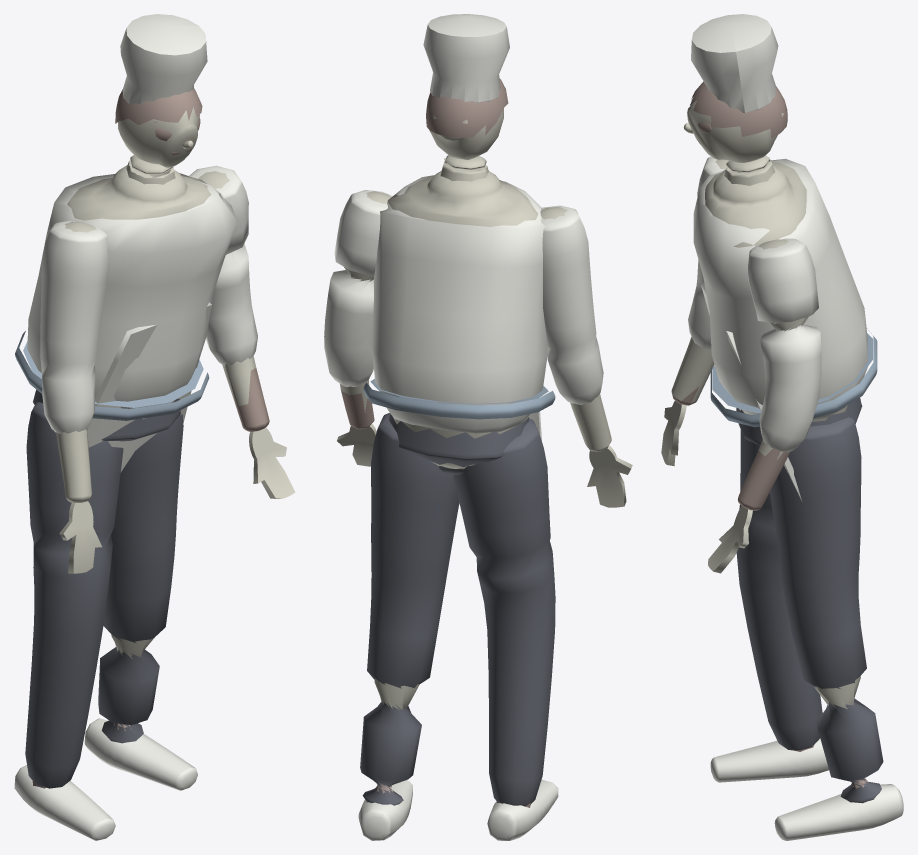
Rendered from undead-horde-and-infected-variants-walker-kitchen-chef-14c763c3__11988.glb.
The picture shows the model from 3 angles, left to right: view 1: azimuth 30°, elevation 25°; view 2: azimuth 150°, elevation 25°; view 3: azimuth 270°, elevation 25°; orthographic projection. The views are drawn at different scales.
Parts seen in each view (by area): view 1: walker-kitchen-chef; view 2: walker-kitchen-chef; view 3: walker-kitchen-chef.
Boxes of the visible parts, x1,y1,x2,y2 form: walker-kitchen-chef: (14,14,295,840); walker-kitchen-chef: (324,14,632,840); walker-kitchen-chef: (661,14,903,840).
Size of the model in its own units: 0.6237 by 1.79 by 0.4962.
